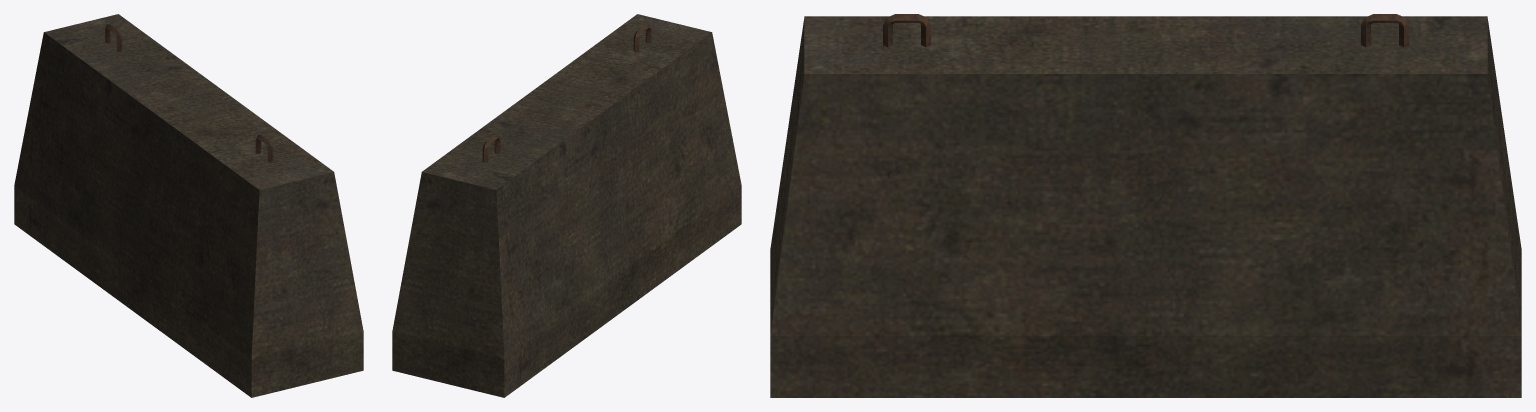
File: concrete_block_mx_1.obj
The picture shows the model from 3 angles, left to right: view 1: azimuth 30°, elevation 25°; view 2: azimuth 150°, elevation 25°; view 3: azimuth 270°, elevation 25°; orthographic projection. The views are drawn at different scales.
Visible parts, largest first — view 1: concrete_block_mx_1; view 2: concrete_block_mx_1; view 3: concrete_block_mx_1.
Boxes of the visible parts, left/top/right/bottom form: concrete_block_mx_1: left=14, top=14, right=363, bottom=397; concrete_block_mx_1: left=392, top=14, right=741, bottom=397; concrete_block_mx_1: left=770, top=14, right=1521, bottom=397.
Bounding box in the file's own units: 0.6 × 1.1 × 2.2.
